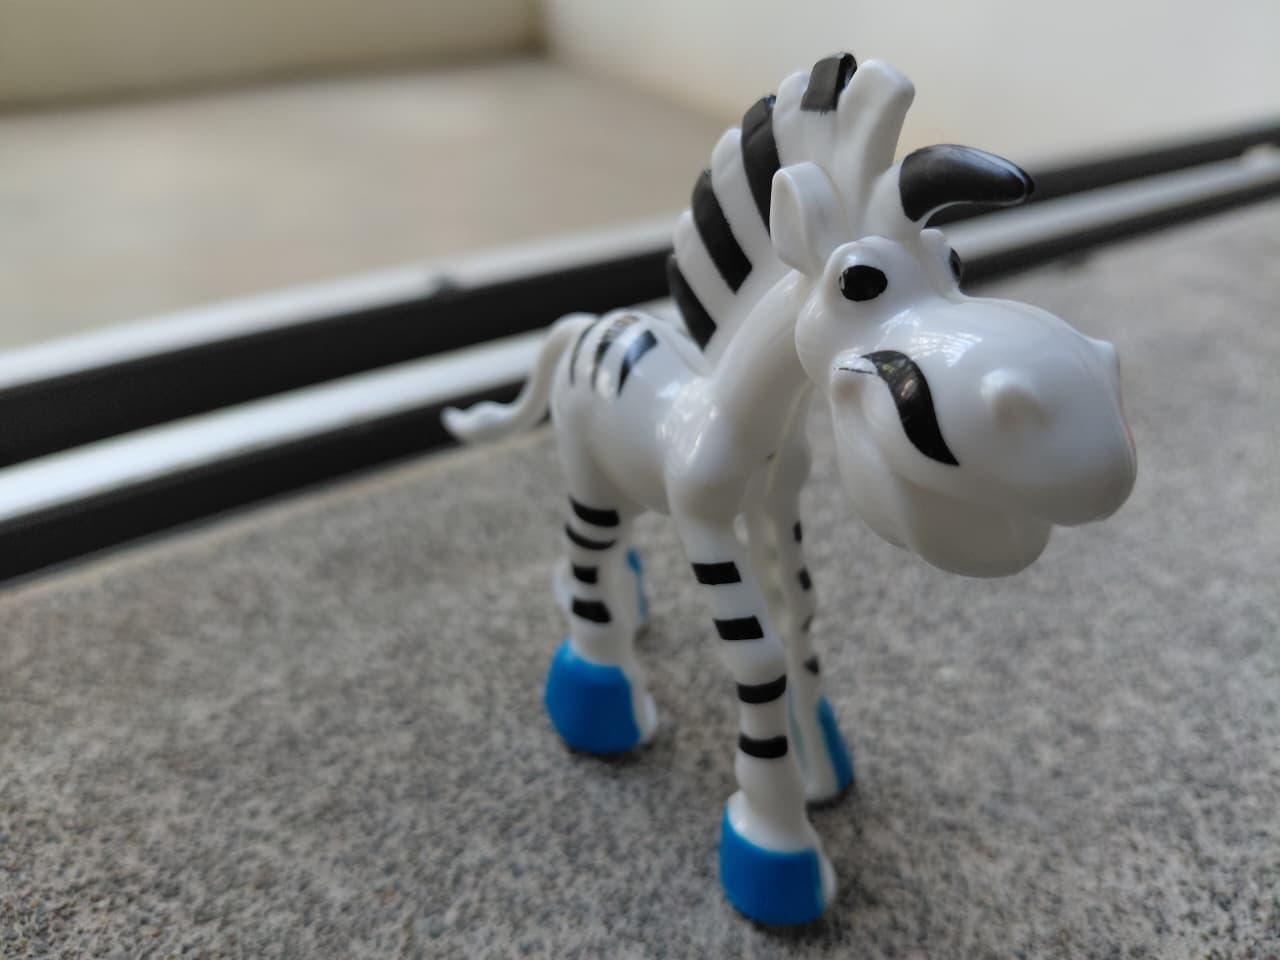zebra: (402, 40, 1154, 935)
